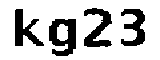2: (82, 6, 113, 49)
3: (118, 8, 149, 48)
g: (48, 16, 79, 60)
k: (9, 6, 47, 49)
